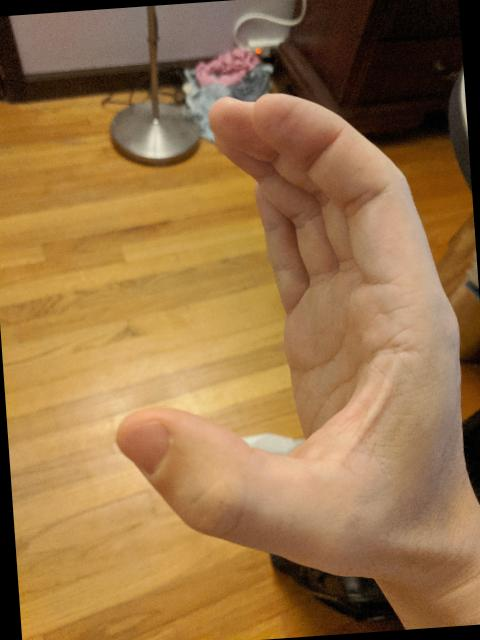C: (83, 71, 480, 602)
